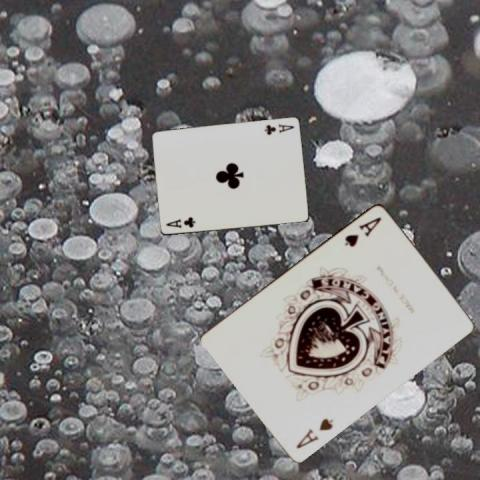Ac: (163, 214, 197, 229), (262, 122, 296, 136)
As: (342, 213, 384, 248), (294, 415, 335, 450)
